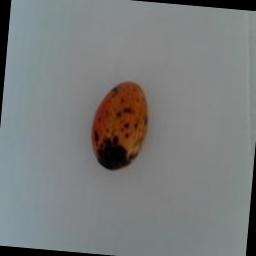Mango Rotten: (82, 77, 157, 192)
